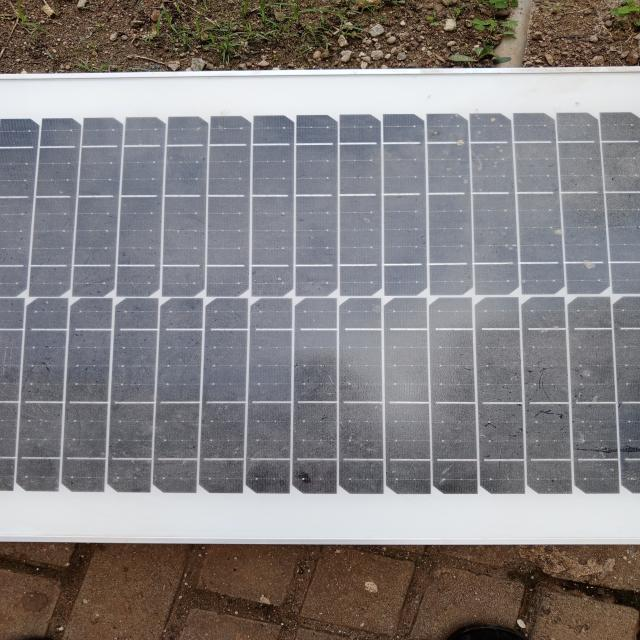Anomaly Solar Panel: (2, 86, 637, 506)
Surface Contaminant: (5, 92, 639, 506)
